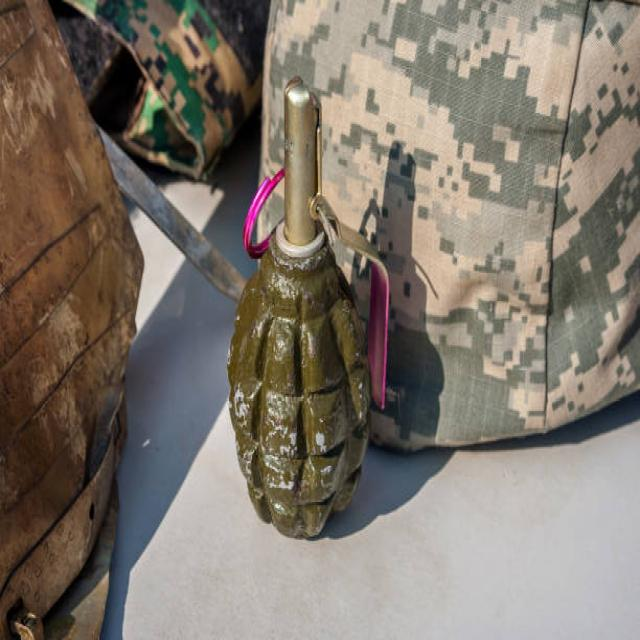grenade: (218, 75, 398, 544)
